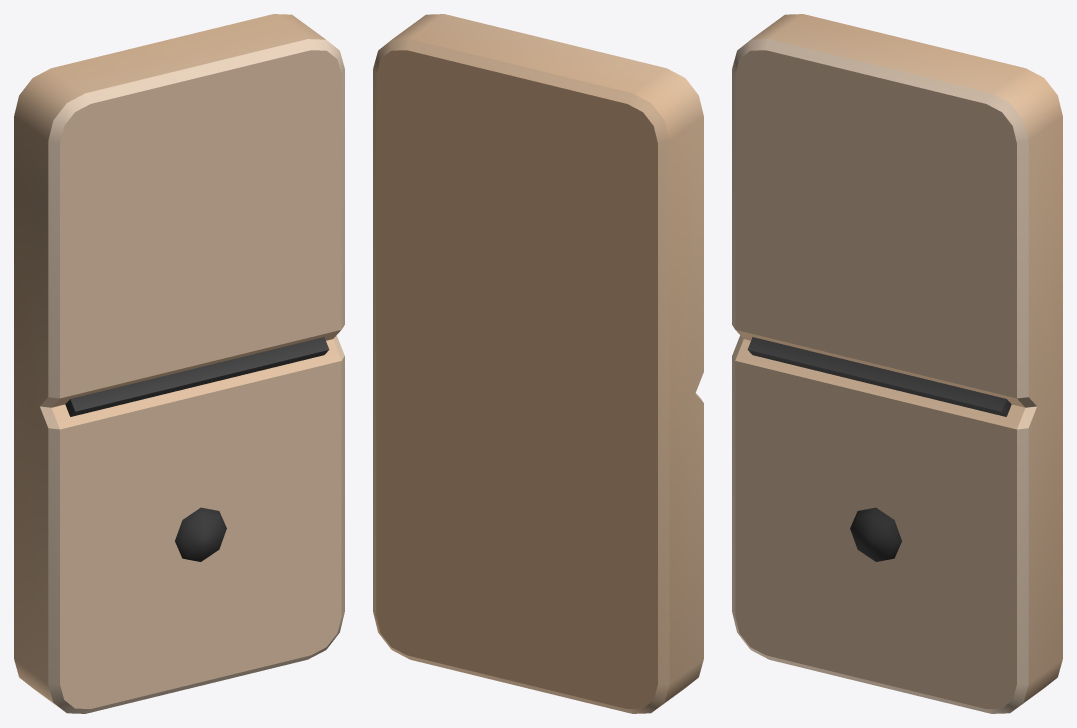
Rendered from KFB_Domino_0-1.r1.glb.
The picture shows the model from 3 angles, left to right: view 1: azimuth 30°, elevation 25°; view 2: azimuth 150°, elevation 25°; view 3: azimuth 330°, elevation 25°; orthographic projection.
Visible parts, largest first — view 1: KFB_Domino_0-1; view 2: KFB_Domino_0-1; view 3: KFB_Domino_0-1.
Part boxes in pixels (bbox=[...]): KFB_Domino_0-1: bbox=[14, 14, 344, 713]; KFB_Domino_0-1: bbox=[373, 14, 703, 713]; KFB_Domino_0-1: bbox=[732, 14, 1062, 713].
Size of the model in its own units: 2.44 by 4.87 by 0.6739.
Materials: 1 (1 with a texture image).
